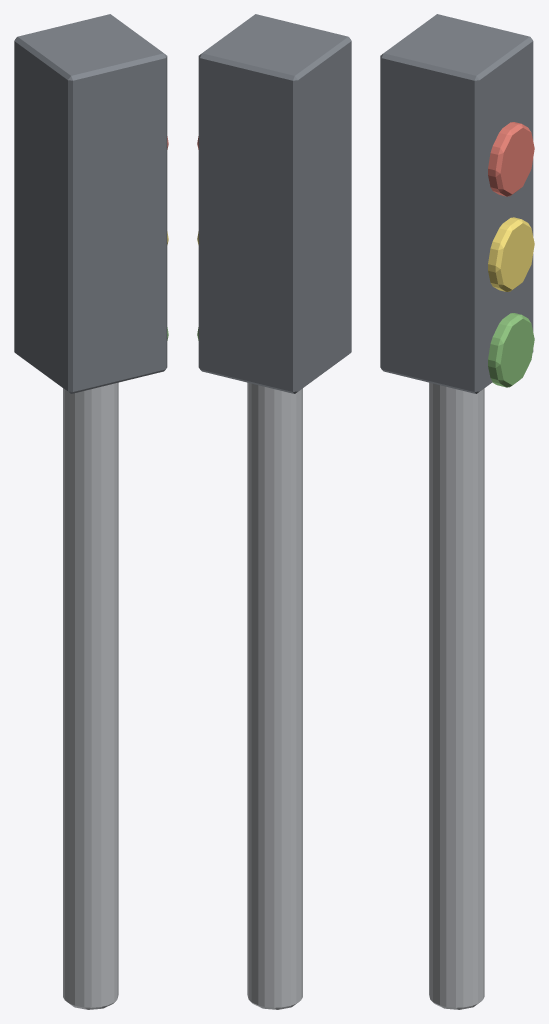
File: 灯具_信号灯_01.fbx
3 renders of one model, left to right at view 1: azimuth 30°, elevation 25°; view 2: azimuth 150°, elevation 25°; view 3: azimuth 330°, elevation 25°, orthographic.
Visible parts, largest first — view 1: 灯箱, 灯杆.005; view 2: 灯箱, 灯杆.005; view 3: 灯箱, 灯杆.005, 绿灯, 黄灯, 红灯.
Part boxes in pixels (x1,y1,x2,y2): 灯箱: (14, 14, 167, 393); 灯杆.005: (63, 382, 118, 1009); 灯箱: (198, 14, 351, 393); 灯杆.005: (247, 382, 302, 1009); 灯箱: (380, 14, 533, 393); 灯杆.005: (429, 382, 484, 1009); 绿灯: (488, 313, 534, 387); 黄灯: (488, 217, 534, 291); 红灯: (488, 122, 534, 196).
Bounding box in the file's own units: 40 × 330 × 36.
